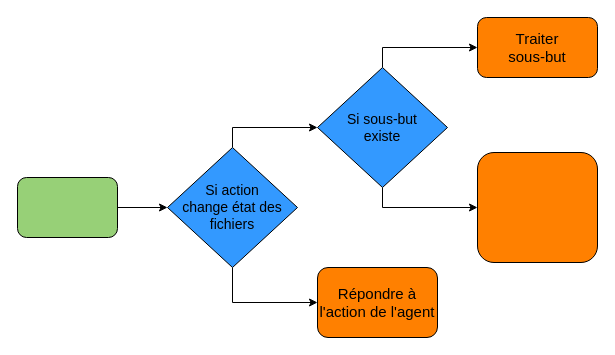
The diagram is 615 pixels wide and 355 high, and some of its shapes have lost their labels. The shapes that lost their labels are listed below. From the top down, each one's centre as x and y in pixels, then its label:
At point (67, 207): "Action agent".
At point (537, 207): "Générer une nouvelle sous-tâche pour arriver au but final".
